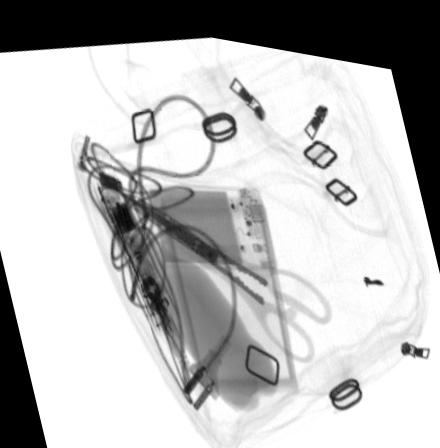Powerbank: (134, 178, 273, 262)
Scissors: (114, 184, 330, 353)
